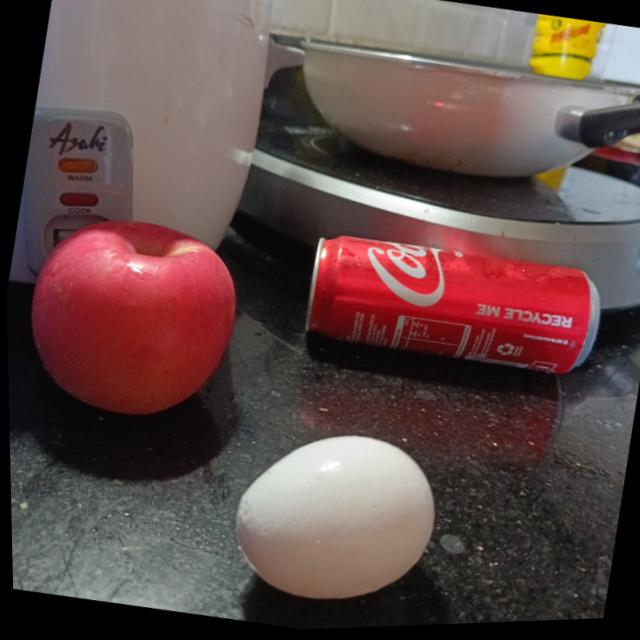apple: (12, 203, 247, 432)
coke: (300, 227, 605, 388)
egg: (218, 417, 444, 622)
